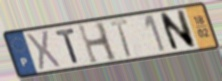1: (142, 13, 167, 55)
H: (75, 20, 120, 66)
N: (157, 8, 198, 53)
T: (107, 17, 133, 59), (54, 27, 81, 65)
X: (24, 28, 63, 71)
